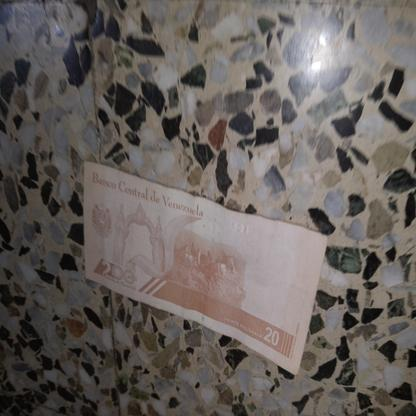twenty-back-vef: (82, 160, 328, 376)
